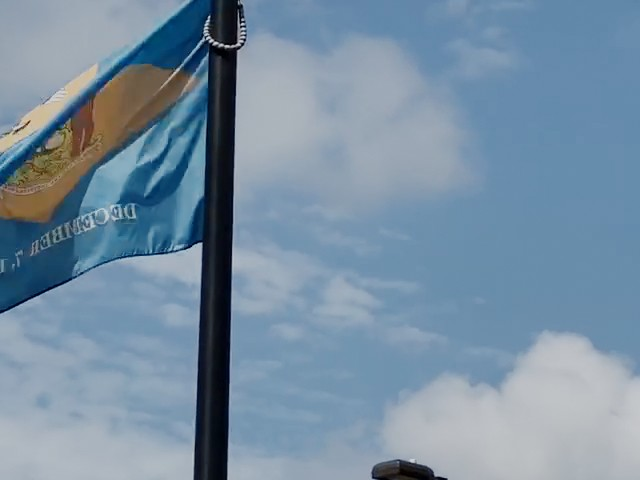Delaware flag: (1, 1, 209, 315)
